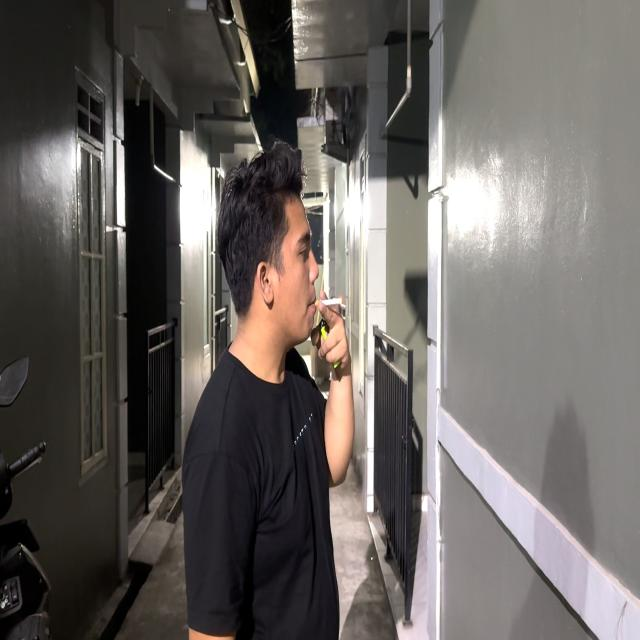cigarette: (314, 298, 346, 311)
smoking: (216, 135, 357, 494)
